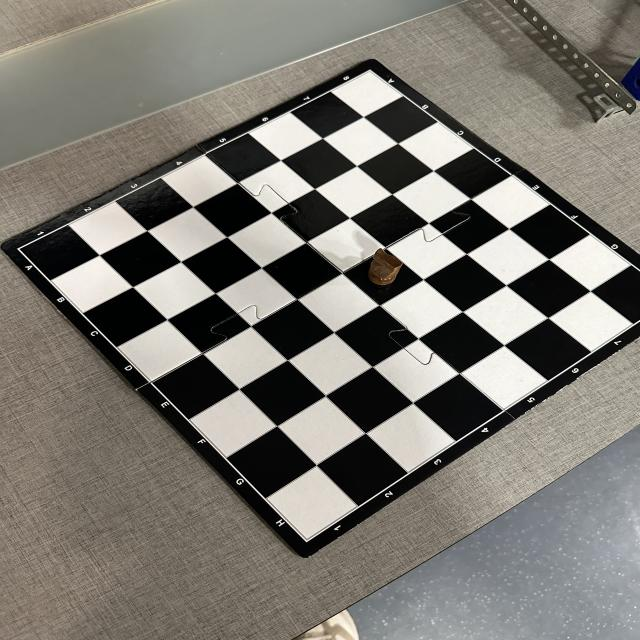Black-Knight: (367, 248, 404, 286)
